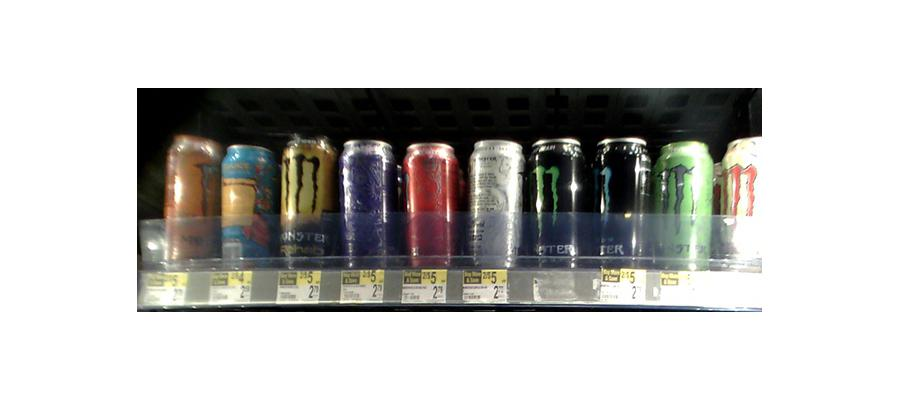bottle: (529, 138, 591, 274), (651, 142, 715, 272), (337, 140, 400, 272), (162, 133, 218, 271), (278, 133, 333, 272), (595, 135, 652, 269), (465, 142, 524, 271), (402, 143, 459, 268), (220, 143, 273, 270), (722, 132, 769, 260)
